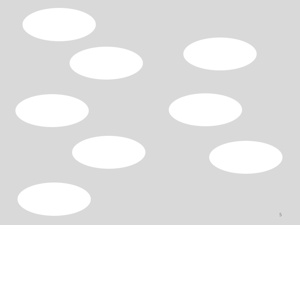round: (180, 34, 259, 74), (20, 5, 97, 44), (166, 89, 243, 128), (11, 92, 92, 129), (15, 179, 93, 217), (207, 138, 285, 175), (71, 134, 148, 168)
